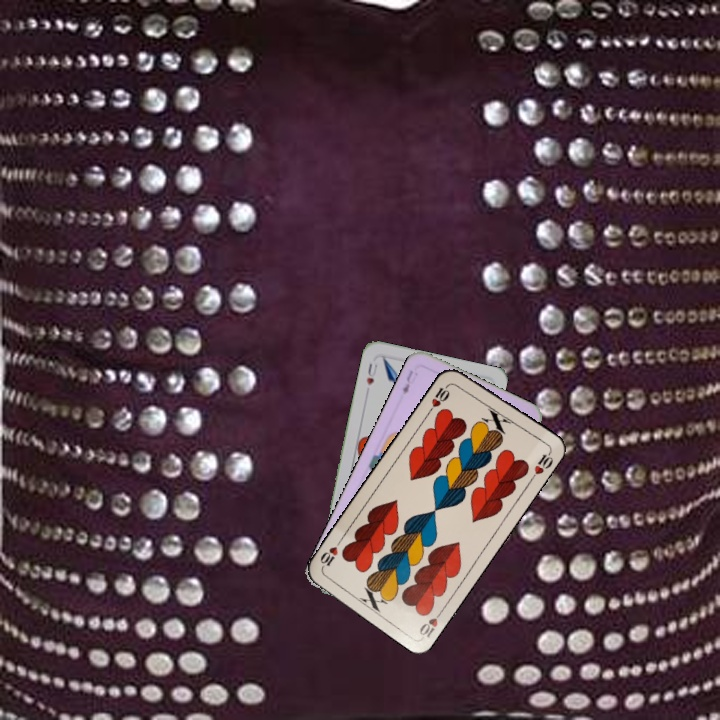EU: (398, 366, 420, 397)
H10: (415, 604, 447, 641), (425, 380, 453, 415)
HU: (362, 359, 380, 387)
